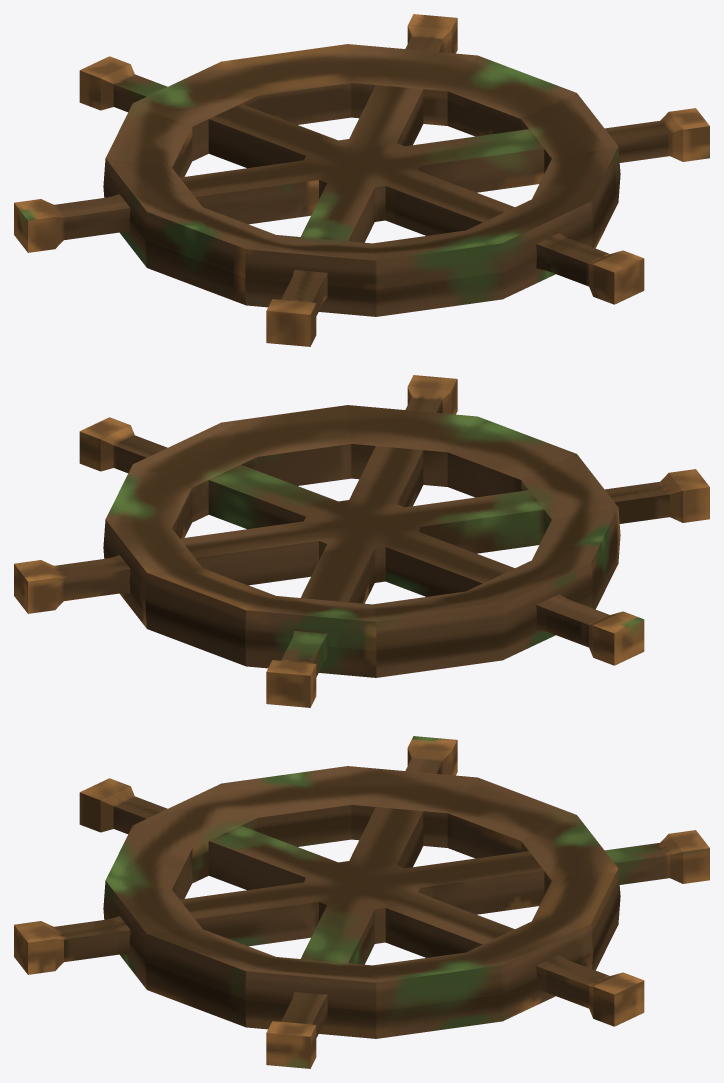
Rendered from Wheel.fbx.
3 views of the same model, one above another, from view 1: azimuth 30°, elevation 25°; view 2: azimuth 150°, elevation 25°; view 3: azimuth 270°, elevation 25° (orthographic).
Parts seen in each view (by area): view 1: Wheel; view 2: Wheel; view 3: Wheel.
Boxes of the visible parts, <box> form: Wheel: <box>14,14,709,346</box>; Wheel: <box>14,375,709,707</box>; Wheel: <box>14,736,709,1068</box>.
Size of the model in its own units: 457 by 39.75 by 446.
